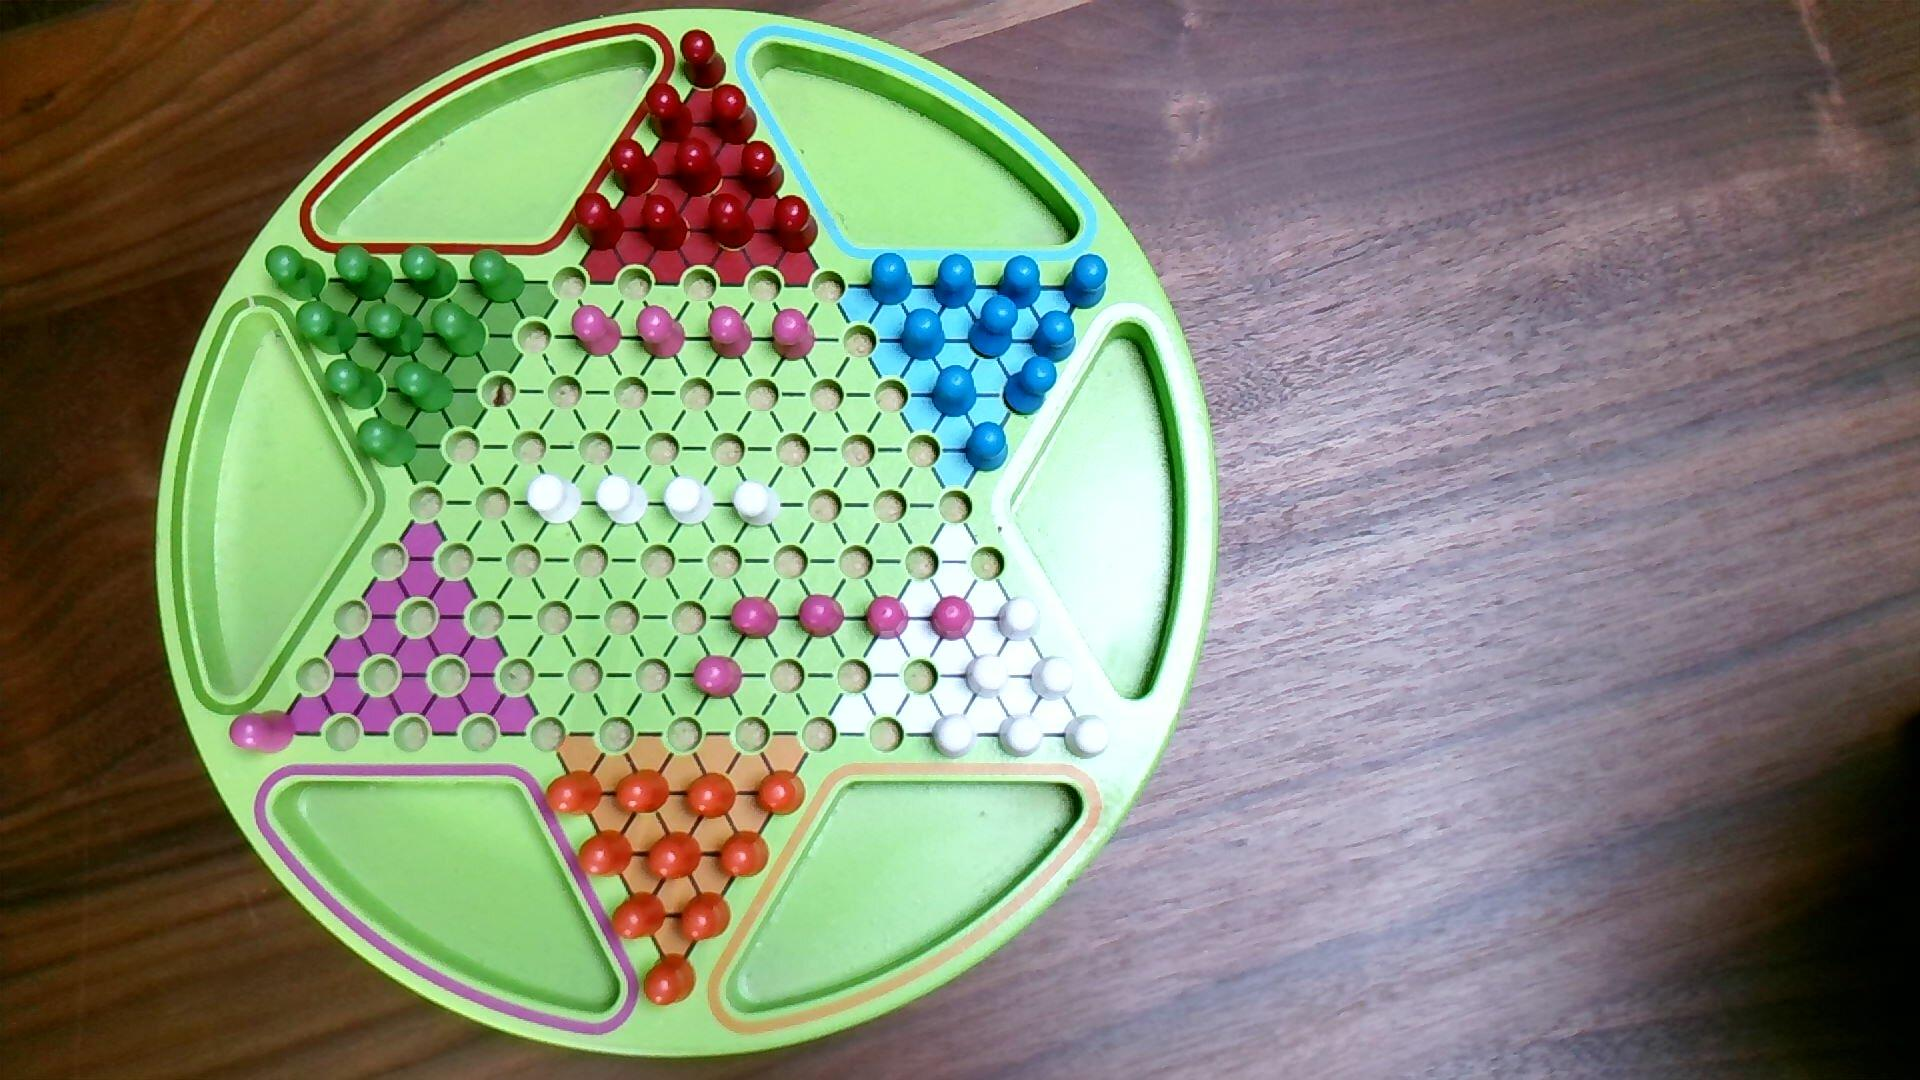B: (965, 291, 1021, 363), (1002, 355, 1062, 419), (930, 252, 980, 313), (1062, 251, 1110, 313), (994, 253, 1044, 313), (1029, 307, 1079, 367), (866, 251, 916, 309), (928, 363, 978, 419), (899, 305, 948, 363), (963, 419, 1011, 473)
G: (294, 297, 361, 359), (264, 243, 328, 305), (392, 357, 458, 417), (363, 299, 427, 359), (353, 414, 421, 471), (429, 299, 489, 361), (467, 247, 529, 307), (334, 243, 396, 303), (398, 243, 462, 302), (322, 357, 386, 413)
O: (575, 827, 636, 882), (644, 829, 705, 884), (543, 767, 605, 822), (642, 951, 699, 1009), (609, 889, 669, 943), (680, 769, 740, 823), (678, 890, 735, 945), (715, 828, 773, 882), (612, 766, 673, 818), (753, 767, 808, 819)
R: (671, 131, 727, 200), (607, 135, 665, 200), (572, 189, 629, 255), (636, 190, 692, 255), (708, 80, 760, 149), (644, 80, 696, 146), (705, 187, 760, 251), (771, 191, 822, 258), (679, 26, 729, 91), (737, 136, 787, 200)
R2: (228, 707, 298, 757), (570, 302, 625, 360), (636, 302, 688, 363), (705, 303, 756, 364), (767, 306, 819, 364), (691, 651, 746, 703), (728, 595, 782, 644), (796, 589, 847, 641), (928, 593, 978, 644), (862, 593, 913, 642)
W: (526, 469, 584, 527), (595, 473, 650, 529), (661, 475, 716, 529), (1062, 709, 1114, 764), (732, 476, 785, 529), (928, 711, 980, 764), (996, 711, 1047, 762), (1029, 651, 1077, 705), (996, 593, 1044, 646), (963, 651, 1013, 702)
